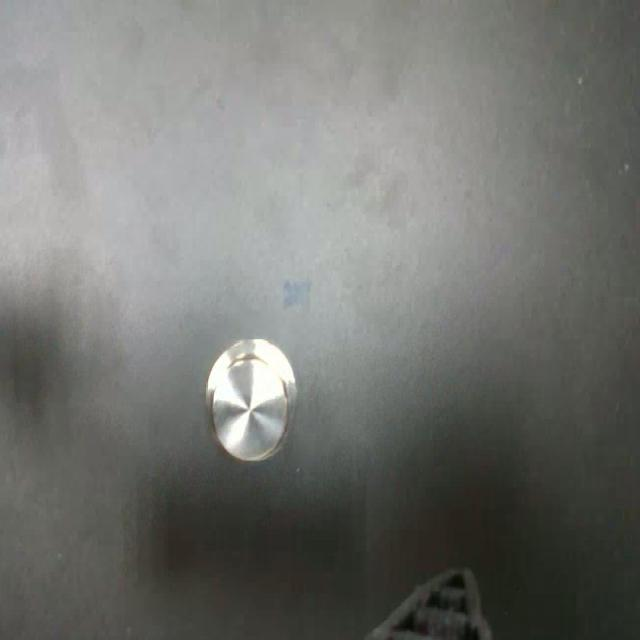sensor: (205, 337, 299, 462)
